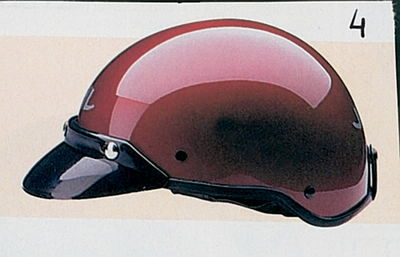helmet: (75, 22, 375, 216)
